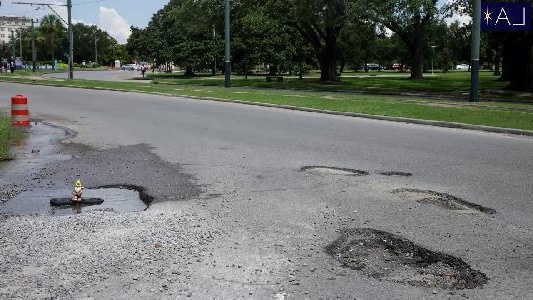pothole: (322, 226, 489, 294), (0, 180, 156, 220), (390, 185, 498, 216), (300, 163, 370, 174), (378, 170, 413, 178)
